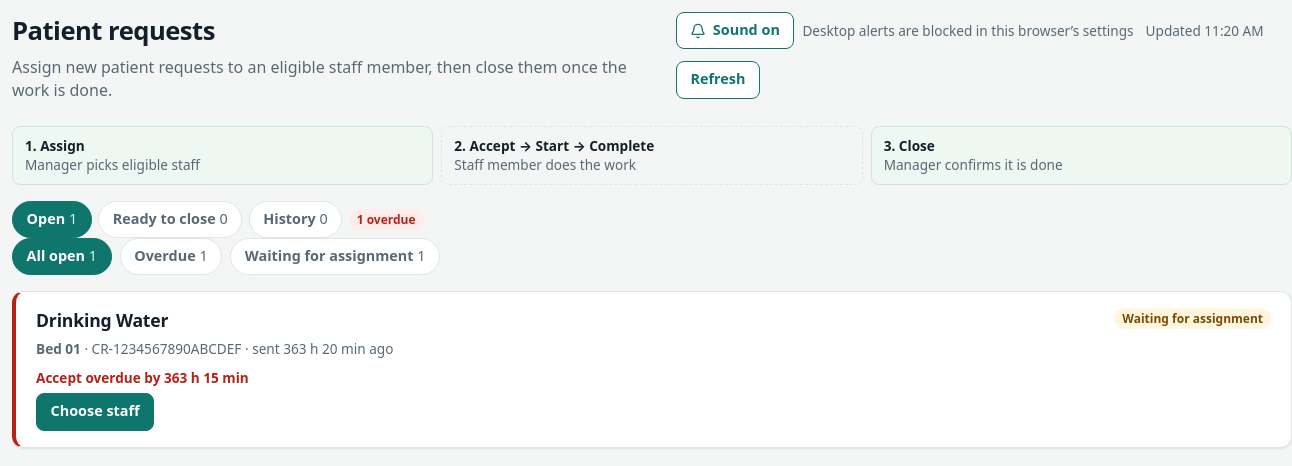
Test: Request work screen › ignores a late background refresh after changing the request tab
This screenshot has width=1292, height=466.
Check: the heading "Drinking Water" is shown, box x1=36 y1=308 x2=168 y2=332
Click the button "Refresh" at [718, 80], box x1=676 y1=61 x2=760 y2=99
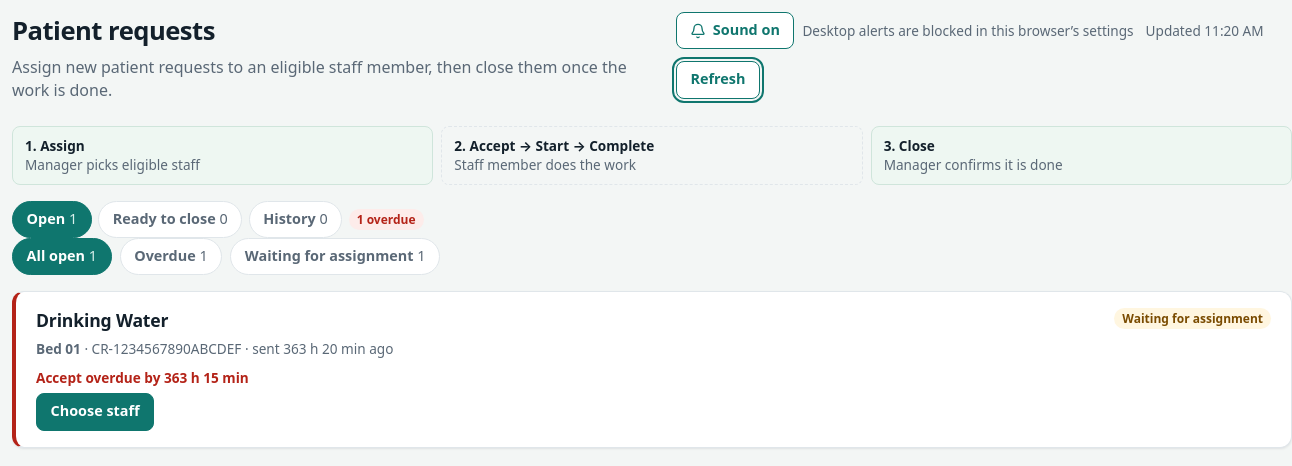
Click the button "Ready to close 0" at [170, 220], box x1=98 y1=201 x2=242 y2=238
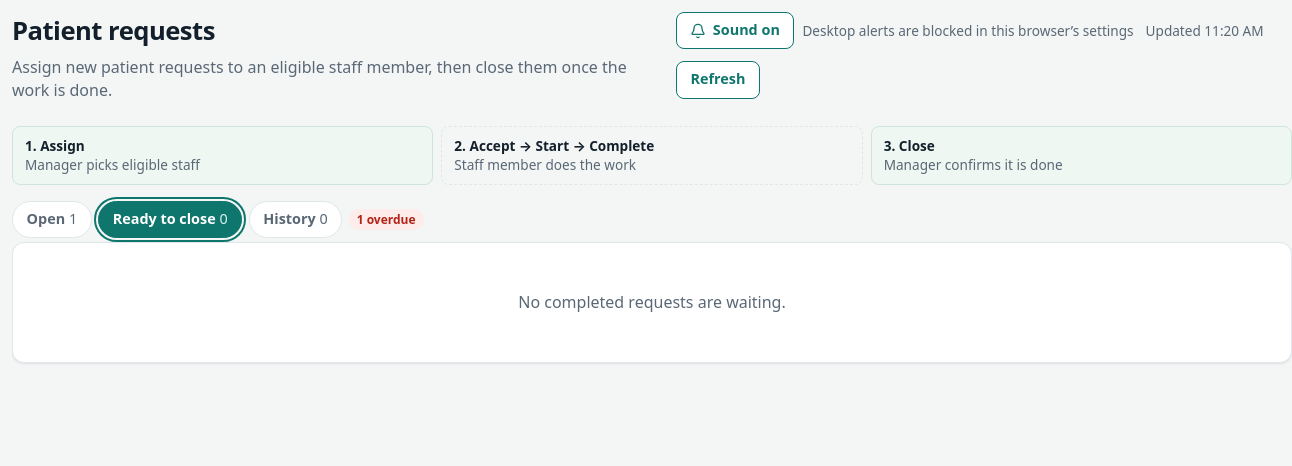
Check: the text "No completed requests are waiting." is shown, box x1=518 y1=291 x2=786 y2=313
Check: the heading "Drinking Water" is gone
